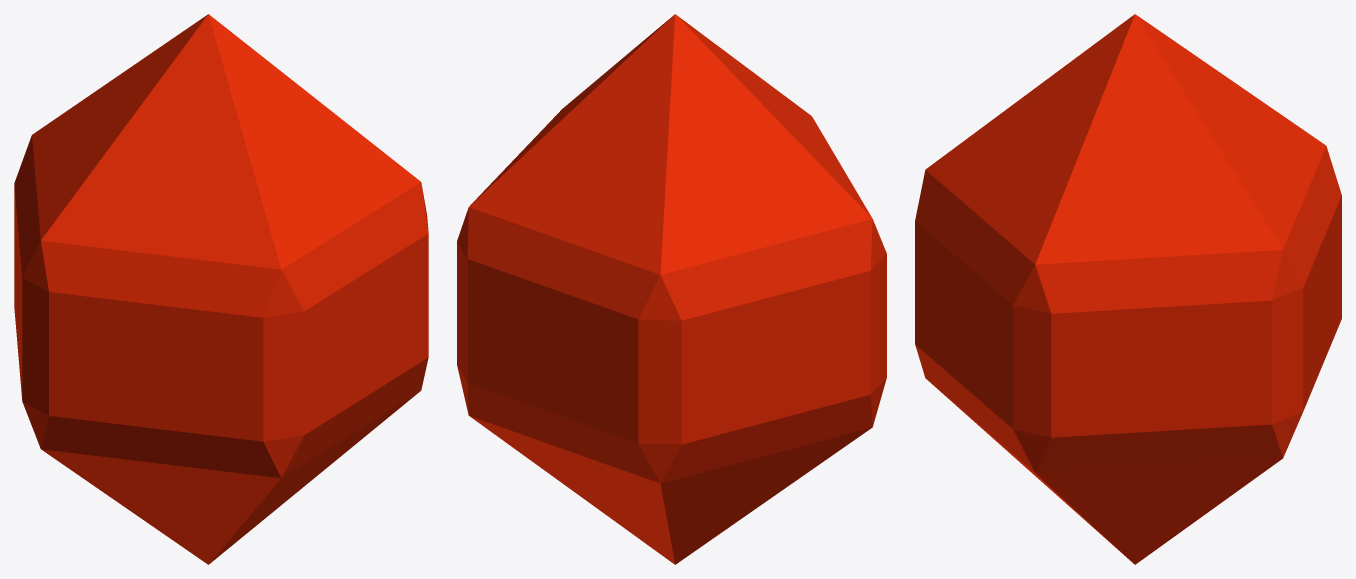
The model's file is gem4.fbx.
3 renders of one model, left to right at view 1: azimuth 30°, elevation 25°; view 2: azimuth 150°, elevation 25°; view 3: azimuth 270°, elevation 25°, orthographic.
Visible parts, largest first — view 1: diamond_level4.002; view 2: diamond_level4.002; view 3: diamond_level4.002.
Part boxes in pixels (<box>): diamond_level4.002: <box>14,14,428,564</box>; diamond_level4.002: <box>457,14,886,564</box>; diamond_level4.002: <box>915,14,1341,564</box>.
Size of the model in its own units: 0.582 by 0.8335 by 0.5851.
